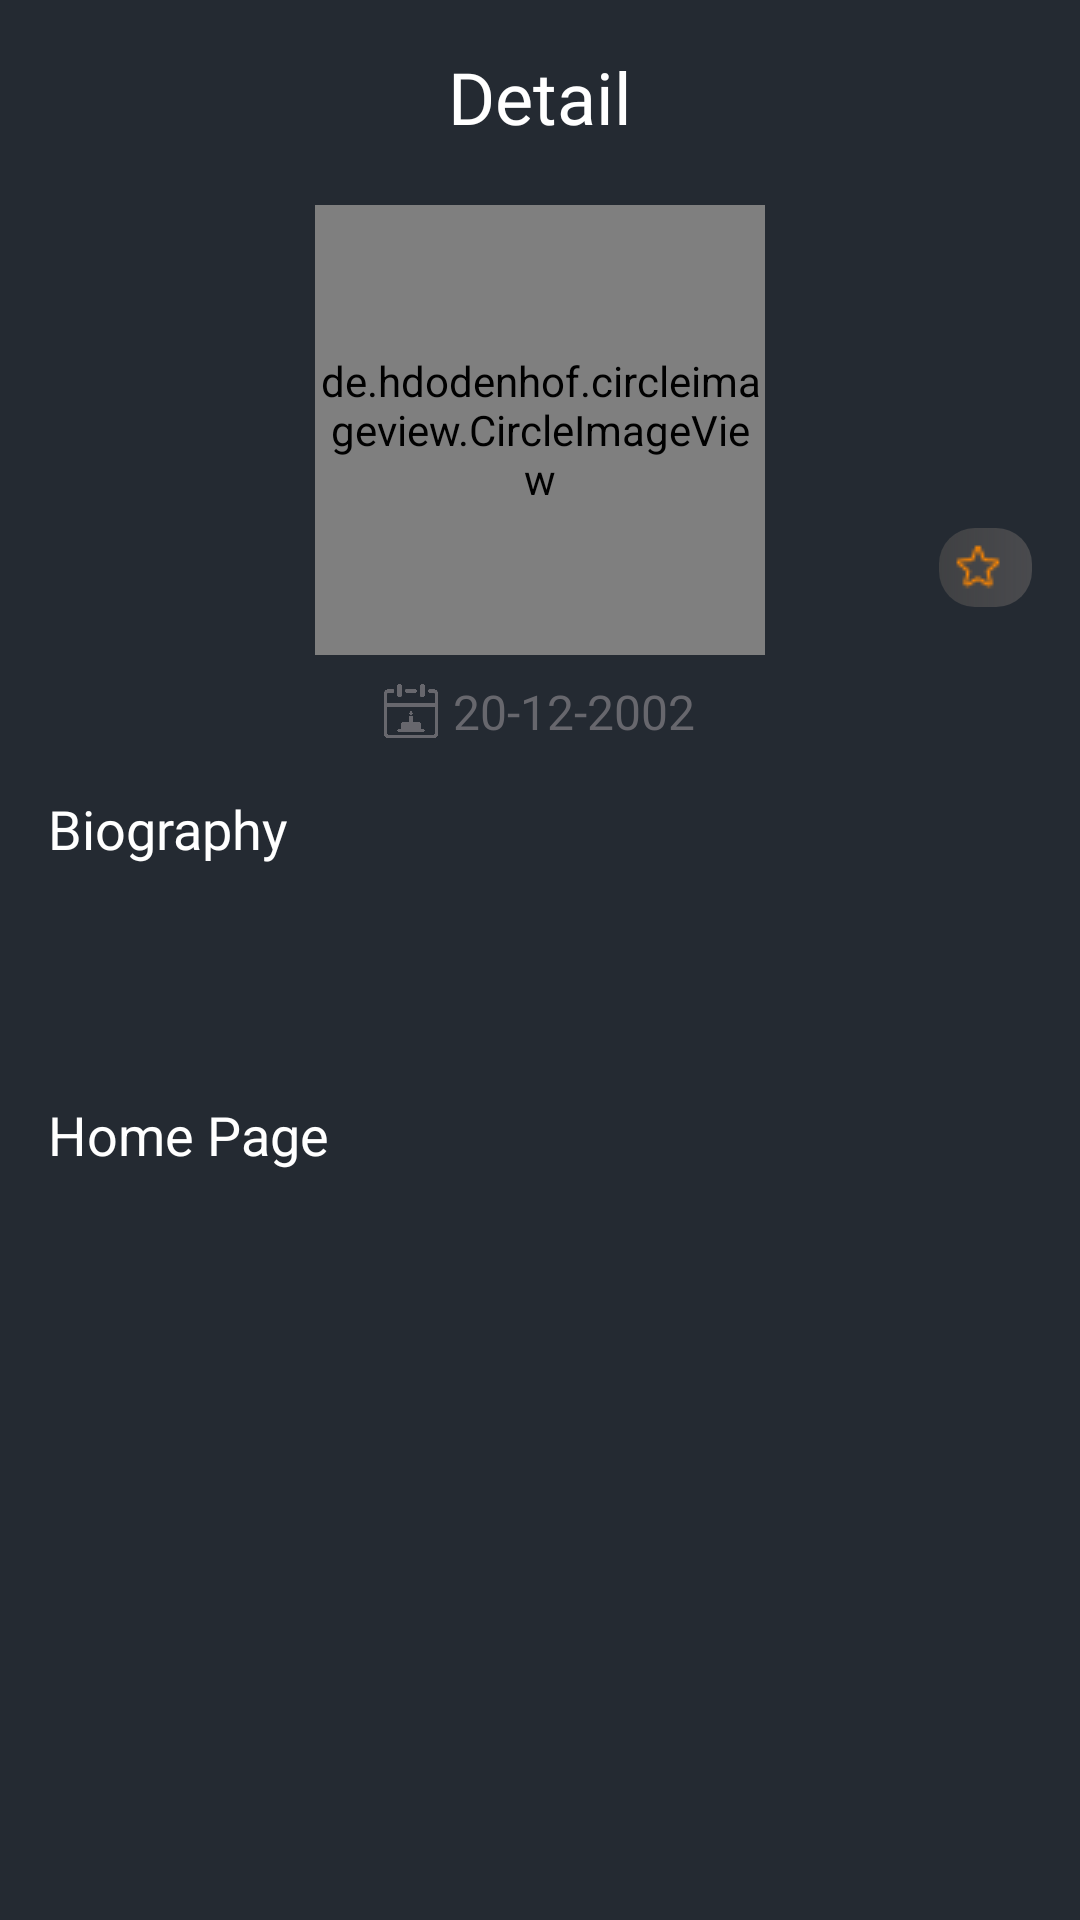

Icon click points for this 1080x1920 phone screenshot, format (x,y):
date: (411,711)
rate: (978,566)
